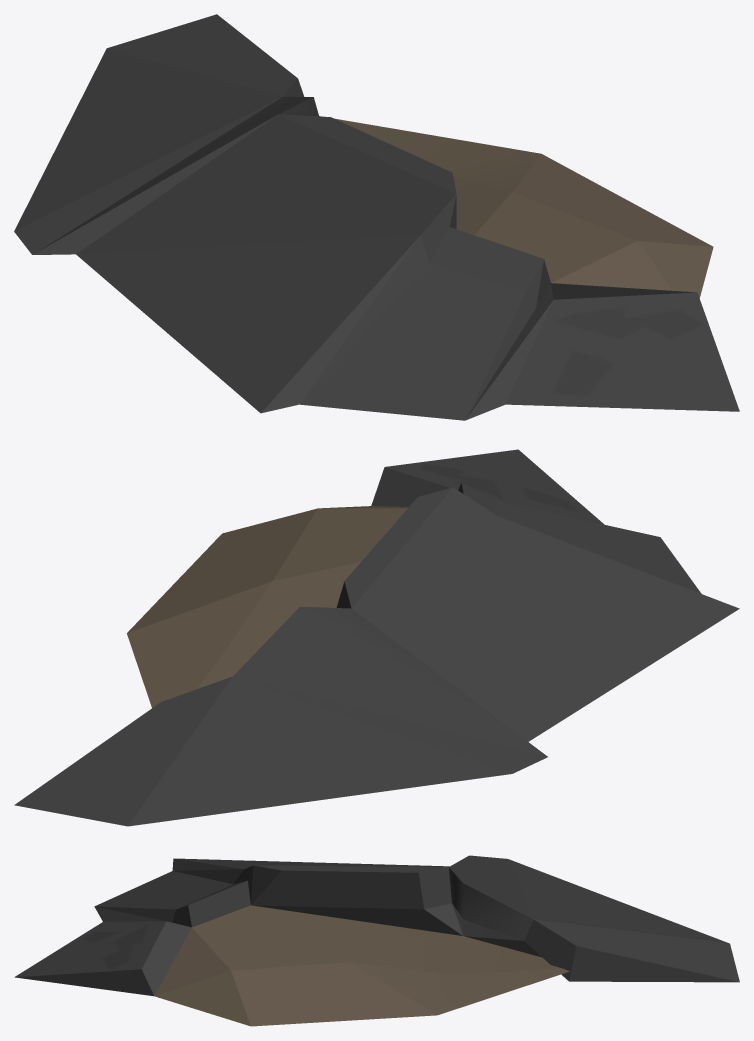
File: SM_Env_RoadPiece_Damaged_02.glb
3 views of the same model, one above another, from view 1: azimuth 30°, elevation 25°; view 2: azimuth 150°, elevation 25°; view 3: azimuth 270°, elevation 25° (orthographic). The views are drawn at different scales.
Parts seen in each view (by area): view 1: SM_Env_RoadPiece_Damaged_02; view 2: SM_Env_RoadPiece_Damaged_02; view 3: SM_Env_RoadPiece_Damaged_02.
Part boxes in pixels (<box>): SM_Env_RoadPiece_Damaged_02: <box>14,14,739,420</box>; SM_Env_RoadPiece_Damaged_02: <box>14,449,739,826</box>; SM_Env_RoadPiece_Damaged_02: <box>14,855,739,1026</box>.
Size of the model in its own units: 1.64 by 0.3857 by 2.93.
Materials: 1 (1 with a texture image).
